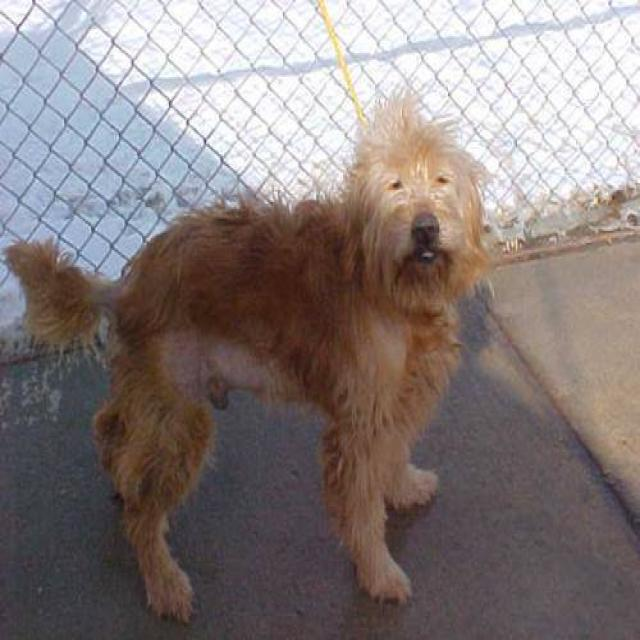dog: (4, 84, 507, 626)
